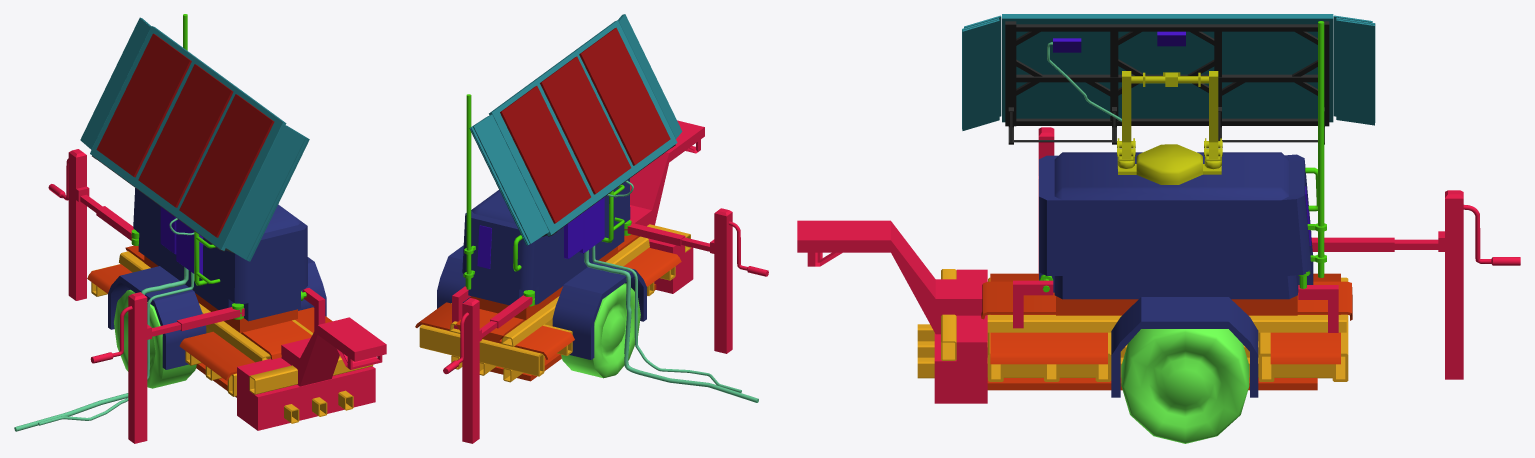
Rendered from PanneauSolaireMobile_low.FBX.
The picture shows the model from 3 angles, left to right: view 1: azimuth 30°, elevation 25°; view 2: azimuth 150°, elevation 25°; view 3: azimuth 270°, elevation 25°; orthographic projection. The views are drawn at different scales.
Parts seen in each view (by area): view 1: Panneau_low, Generateur_low, ArriereRemorque_low, PanneauSolaire_01_low, PanneauSolaire_03_low, PanneauSolaire_02_low, GardeBoue_Roue01_low, PoteauManivelle_02_low, PoteauManivelle_01_low, PlaqueMaintien_03_low, Roue_01_low, PlaqueMaintien_01_low (+13 smaller); view 2: Panneau_low, Generateur_low, PanneauSolaire_02_low, PanneauSolaire_03_low, PanneauSolaire_01_low, ArriereRemorque_low, GardeBoue_Roue01_low, Roue_01_low, PoteauManivelle_02_low, BarreMaintien_01_low, PoteauManivelle_01_low, PlaqueMaintien_02_low (+16 smaller); view 3: Generateur_low, Panneau_low, Roue_02_low, ArriereRemorque_low, EchafaudageMid01_low, GardeBoue_Roue02_low, PlaqueMaintien_03_low, PoteauManivelle_01_low, BarreRail_002_low, PlaqueMaintien_01_low, PlaqueMaintien_02_low, BaseAttcahePanneau_low (+11 smaller).
Part boxes in pixels (bbox=[...]): Panneau_low: bbox=[80, 17, 309, 261]; Generateur_low: bbox=[133, 188, 307, 321]; ArriereRemorque_low: bbox=[237, 317, 386, 430]; PanneauSolaire_01_low: bbox=[96, 33, 191, 177]; PanneauSolaire_03_low: bbox=[179, 94, 274, 237]; PanneauSolaire_02_low: bbox=[138, 64, 233, 207]; GardeBoue_Roue01_low: bbox=[108, 266, 206, 369]; PoteauManivelle_02_low: bbox=[128, 292, 151, 443]; PoteauManivelle_01_low: bbox=[68, 149, 89, 300]; PlaqueMaintien_03_low: bbox=[179, 307, 332, 380]; Roue_01_low: bbox=[114, 289, 196, 388]; PlaqueMaintien_01_low: bbox=[125, 245, 311, 359]; Panneau_low: bbox=[469, 14, 682, 245]; Generateur_low: bbox=[462, 178, 630, 305]; PanneauSolaire_02_low: bbox=[540, 56, 631, 194]; PanneauSolaire_03_low: bbox=[579, 27, 670, 165]; PanneauSolaire_01_low: bbox=[500, 86, 590, 223]; ArriereRemorque_low: bbox=[630, 120, 704, 293]; GardeBoue_Roue01_low: bbox=[552, 262, 646, 359]; Roue_01_low: bbox=[561, 283, 640, 378]; PoteauManivelle_02_low: bbox=[710, 208, 732, 353]; BarreMaintien_01_low: bbox=[419, 324, 544, 376]; PoteauManivelle_01_low: bbox=[462, 298, 481, 443]; PlaqueMaintien_02_low: bbox=[415, 302, 574, 359]; Generateur_low: bbox=[1039, 152, 1313, 299]; Panneau_low: bbox=[962, 14, 1375, 130]; Roue_02_low: bbox=[1121, 329, 1249, 443]; ArriereRemorque_low: bbox=[797, 220, 987, 403]; EchafaudageMid01_low: bbox=[1005, 21, 1329, 126]; GardeBoue_Roue02_low: bbox=[1111, 297, 1258, 397]; PlaqueMaintien_03_low: bbox=[990, 273, 1107, 364]; PoteauManivelle_01_low: bbox=[1438, 190, 1463, 379]; BarreRail_002_low: bbox=[987, 315, 1346, 332]; PlaqueMaintien_01_low: bbox=[981, 281, 1352, 320]; PlaqueMaintien_02_low: bbox=[1270, 273, 1340, 364]; BaseAttcahePanneau_low: bbox=[1117, 144, 1221, 184].
Size of the model in its own units: 274 by 278 by 464.
